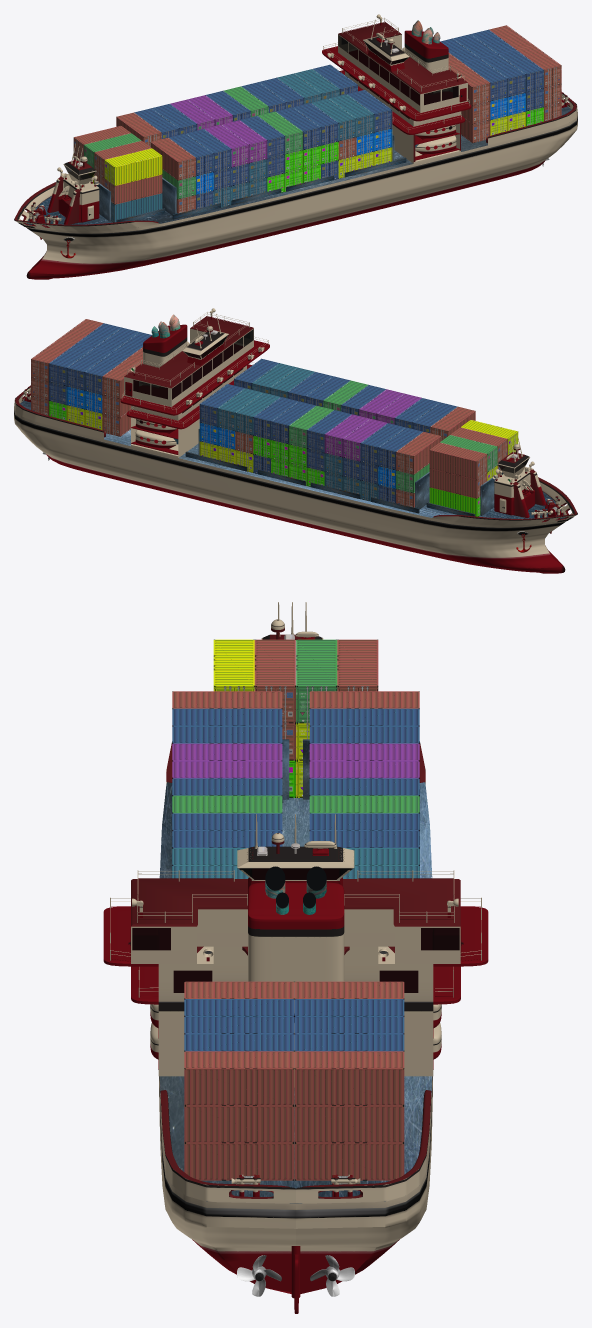
The model's file is cargo-ship.glb.
The picture shows the model from 3 angles, top to bottom: view 1: azimuth 30°, elevation 25°; view 2: azimuth 150°, elevation 25°; view 3: azimuth 270°, elevation 25°; orthographic projection. The views are drawn at different scales.
Parts seen in each view (by area): view 1: Object_19, Object_13, Object_32, Object_10, Object_12, Object_9, Object_16, Object_40, Object_11, Object_8, Object_37, Object_14 (+6 smaller); view 2: Object_19, Object_13, Object_32, Object_10, Object_12, Object_8, Object_40, Object_16, Object_11, Object_9, Object_37, Object_14 (+5 smaller); view 3: Object_32, Object_10, Object_13, Object_19, Object_40, Object_16, Object_11, Object_36, Object_12, Object_37, Object_9, Object_35 (+3 smaller).
Part boxes in pixels (x1,y1,x2,y2): Object_19: (25,113,577,279); Object_13: (134,29,543,208); Object_32: (14,18,577,228); Object_10: (73,25,561,213); Object_12: (111,69,374,222); Object_9: (89,111,525,185); Object_16: (170,95,267,167); Object_40: (26,103,577,225); Object_11: (84,86,302,199); Object_8: (267,107,543,192); Object_37: (64,35,458,180); Object_14: (196,93,525,194); Object_19: (14,407,565,573); Object_13: (49,323,457,503); Object_32: (14,312,577,525); Object_10: (31,319,518,507); Object_12: (217,363,378,501); Object_8: (49,401,480,516); Object_40: (15,397,565,519); Object_16: (324,389,421,461); Object_11: (289,380,497,493); Object_9: (66,405,518,480); Object_37: (133,329,528,473); Object_14: (66,386,395,488); Object_32: (103,602,488,1313); Object_10: (172,639,419,1180); Object_13: (172,708,419,1051); Object_19: (150,1004,441,1293); Object_40: (159,739,432,1203); Object_16: (172,743,419,778); Object_11: (172,639,419,813); Object_36: (130,846,461,960); Object_12: (172,848,419,878); Object_37: (132,868,459,1008); Object_9: (213,639,309,797); Object_35: (160,743,431,1199).
Bounding box in the file's own units: 9.14 × 2.74 × 2.8.
Materials: 29 (28 with a texture image).
